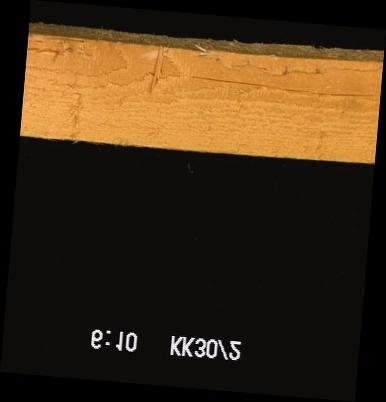split: (28, 27, 383, 58)
